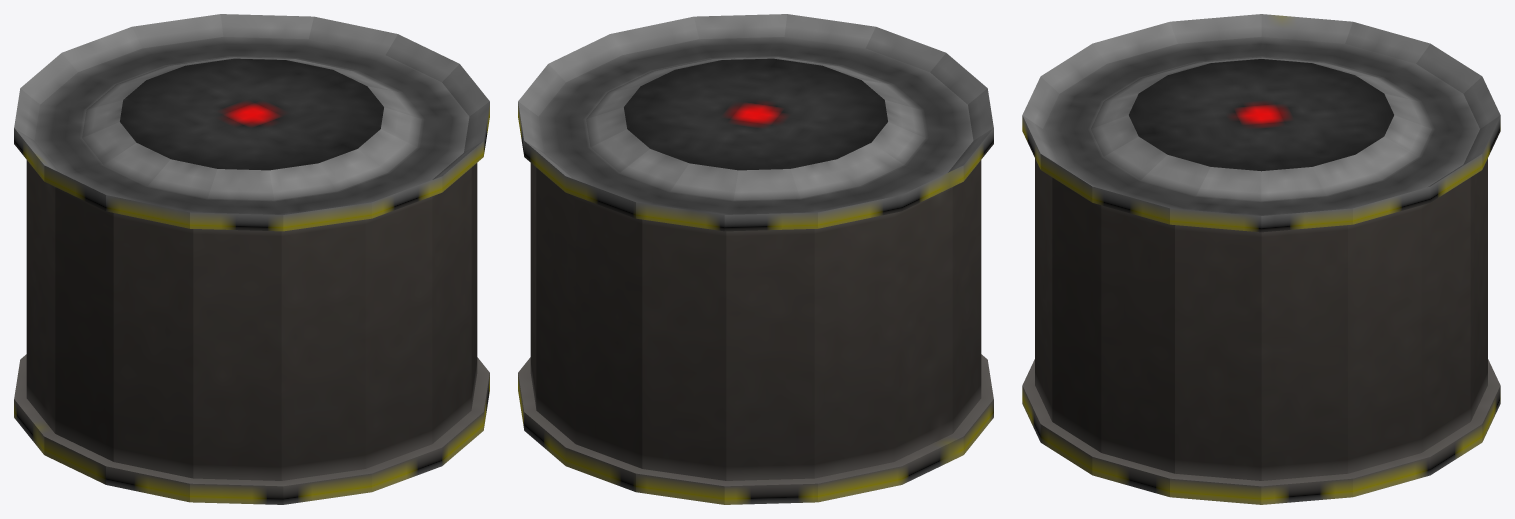
Rendered from reaction_wheel_15.obj.
3 renders of one model, left to right at view 1: azimuth 30°, elevation 25°; view 2: azimuth 150°, elevation 25°; view 3: azimuth 270°, elevation 25°, orthographic.
Visible parts, largest first — view 1: Cylinder.002; view 2: Cylinder.002; view 3: Cylinder.002.
Boxes of the visible parts, x1,y1,x2,y2 form: Cylinder.002: (14,14,489,504); Cylinder.002: (518,14,993,504); Cylinder.002: (1022,14,1500,504).
Size of the model in its own units: 1.5 by 1 by 1.5.
